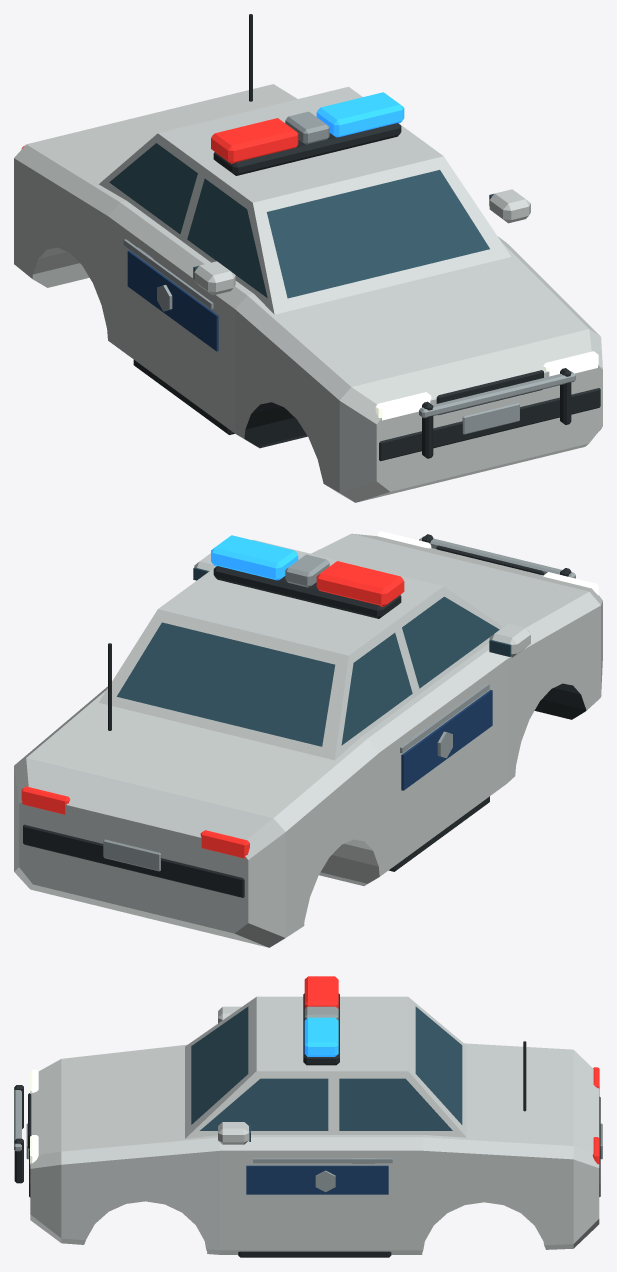
File: police.glb
3 renders of one model, top to bottom at view 1: azimuth 30°, elevation 25°; view 2: azimuth 150°, elevation 25°; view 3: azimuth 270°, elevation 25°, orthographic. The views are drawn at different scales.
Visible parts, largest first — view 1: BODY_Police; view 2: BODY_Police; view 3: BODY_Police.
Boxes of the visible parts, bbox=[...] form: BODY_Police: bbox=[14, 14, 602, 502]; BODY_Police: bbox=[14, 531, 602, 947]; BODY_Police: bbox=[14, 976, 602, 1257].
Size of the model in its own units: 2.2 by 1.62 by 4.35.
